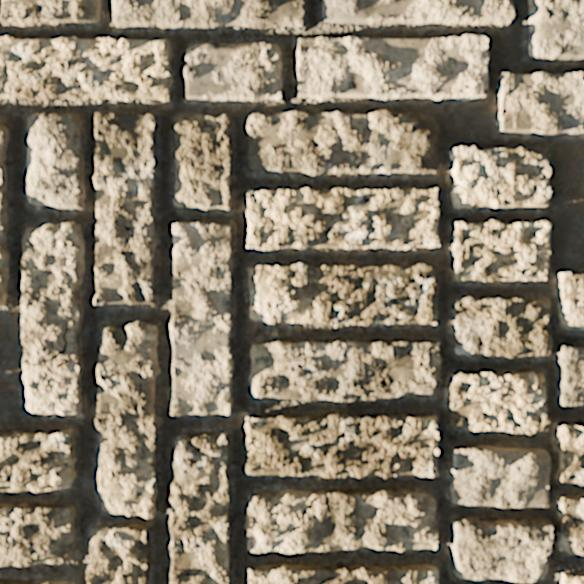brick: (245, 413, 438, 477), (96, 322, 159, 517), (297, 35, 488, 99), (247, 111, 436, 175), (246, 489, 437, 552), (170, 223, 232, 414), (94, 113, 156, 303), (247, 188, 438, 249), (22, 222, 83, 413), (247, 263, 436, 324), (451, 495, 583, 581), (250, 341, 440, 400), (0, 36, 171, 101), (169, 433, 230, 583), (450, 146, 551, 208), (449, 371, 549, 433), (451, 446, 550, 506), (452, 297, 551, 357), (452, 220, 550, 280), (173, 115, 232, 209), (113, 0, 304, 29), (26, 113, 84, 208), (185, 43, 281, 100), (497, 72, 583, 135), (0, 503, 74, 565), (323, 0, 514, 24), (0, 430, 75, 491), (247, 564, 437, 583), (87, 525, 149, 583), (529, 0, 583, 58), (0, 0, 100, 25), (556, 424, 583, 484), (557, 345, 583, 404), (0, 120, 8, 305), (557, 272, 583, 328), (0, 579, 73, 583), (560, 573, 583, 583)
crack: (22, 321, 68, 378), (0, 506, 38, 535), (561, 498, 583, 535), (170, 564, 208, 583), (174, 390, 207, 401), (2, 0, 30, 6), (226, 139, 232, 153), (170, 410, 175, 415)
